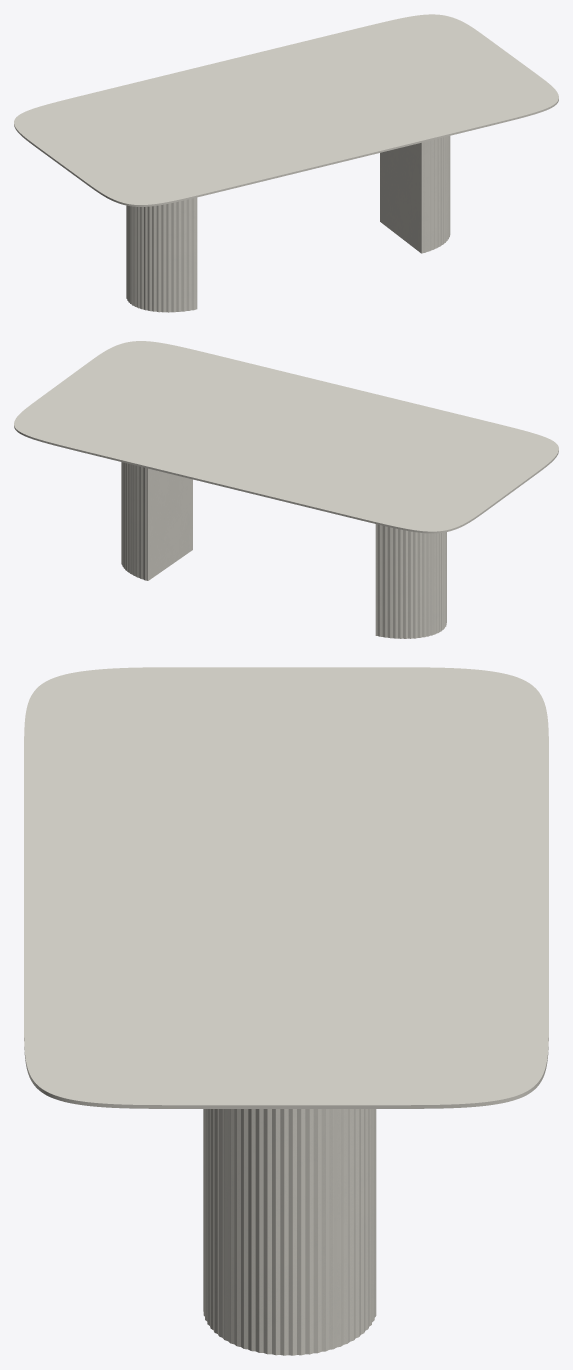
File: pale_softrecta_facet_flute.glb
3 views of the same model, one above another, from view 1: azimuth 30°, elevation 25°; view 2: azimuth 150°, elevation 25°; view 3: azimuth 270°, elevation 25° (orthographic). The views are drawn at different scales.
Parts seen in each view (by area): view 1: facet_softrecta, flute; view 2: facet_softrecta, flute; view 3: facet_softrecta, flute.
Part boxes in pixels (box(x1,y1,x2,y2)): facet_softrecta: box(14, 14, 558, 206); flute: box(126, 136, 450, 312); facet_softrecta: box(14, 341, 558, 533); flute: box(121, 462, 446, 638); facet_softrecta: box(24, 667, 548, 1108); flute: box(203, 1109, 376, 1355).
Size of the model in its own units: 7.5 by 2.5 by 3.8.
1 material, 1 textured.
